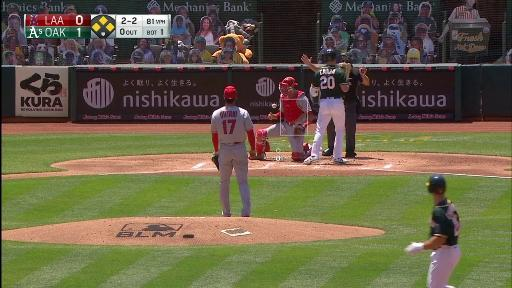pitcher: (210, 85, 257, 217)
